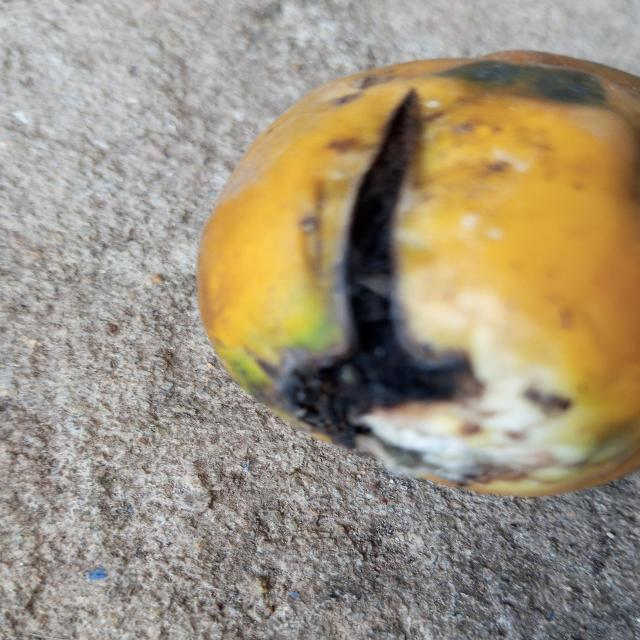damaged: (197, 51, 640, 496)
